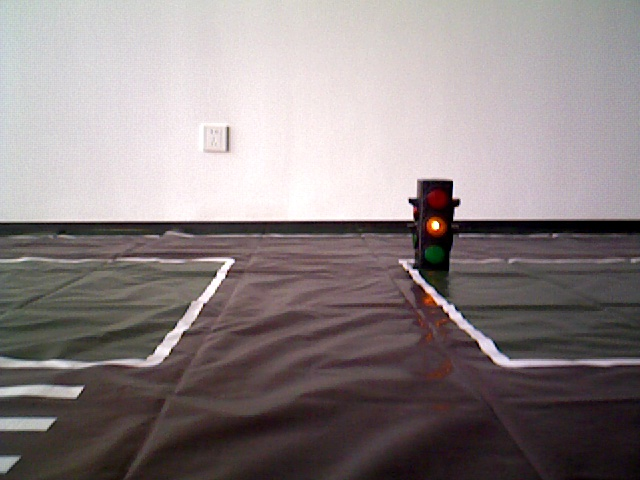yellow: (416, 175, 453, 263)
